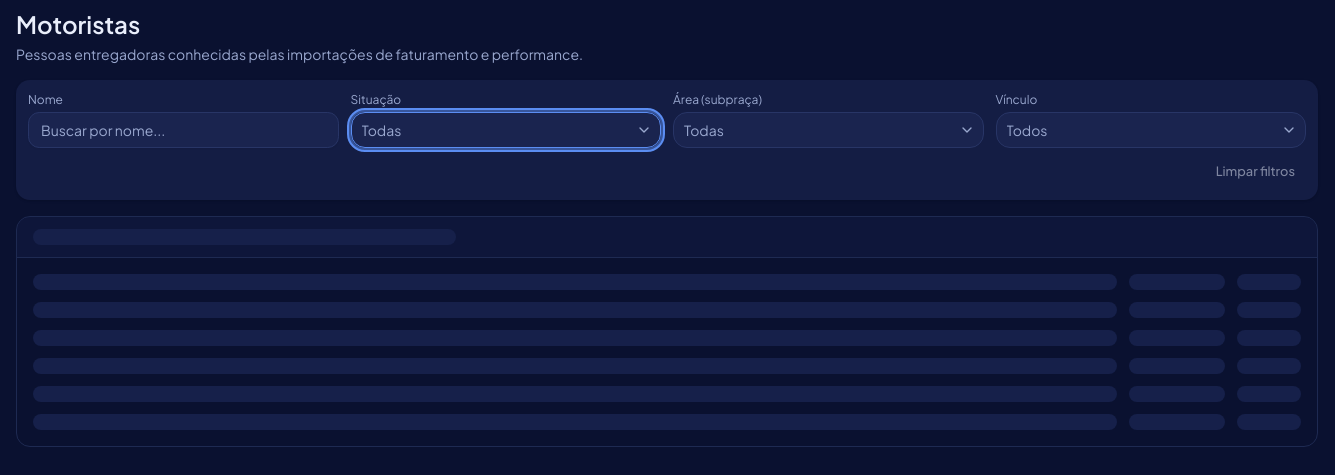
Test: MotoristasPage › filtro de situação envia ativo como boolean
The image size is (1335, 475).
Click the dropdown named "Situação" at [381, 130], box [350,112,661,148]
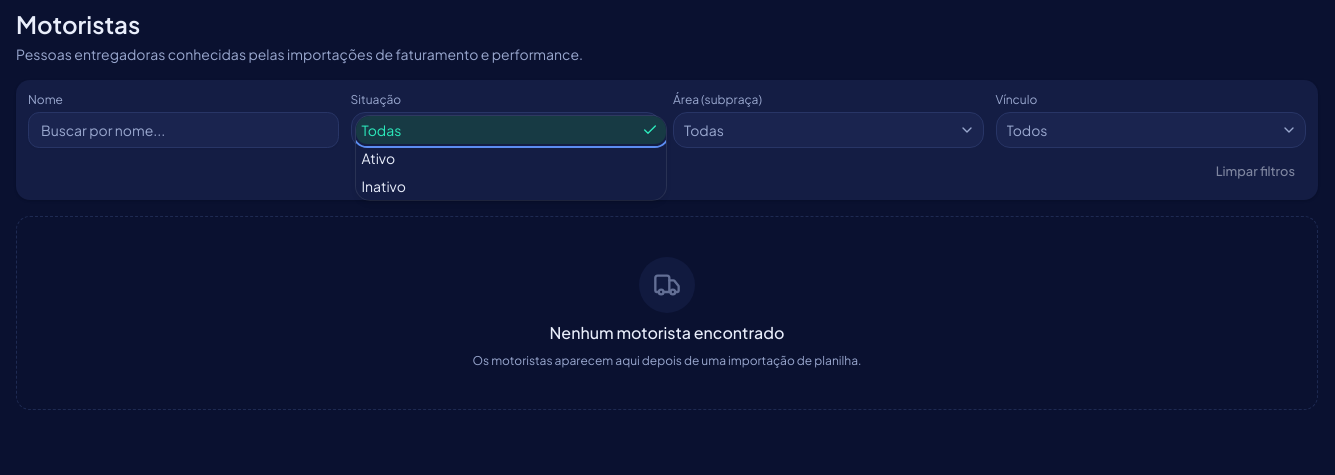
Expected: the dropdown named "Situação" is expanded, [350,112,661,148]
Expected: the option "Todas" is shown
Press ArrowDown in the option "Todas", box [356,116,666,144]
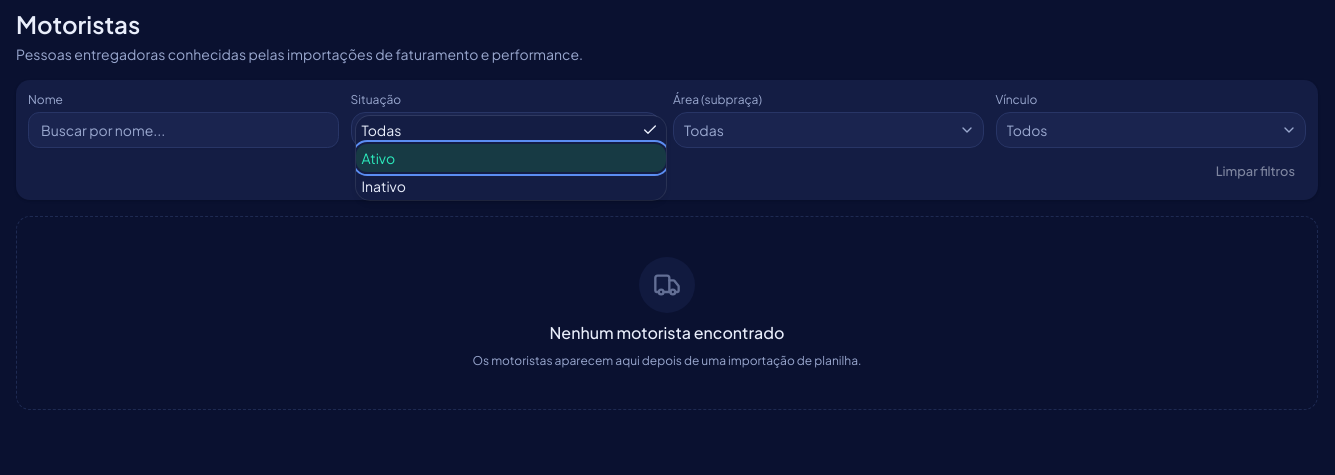
Press Enter in the option "Ativo", box [356,144,666,172]
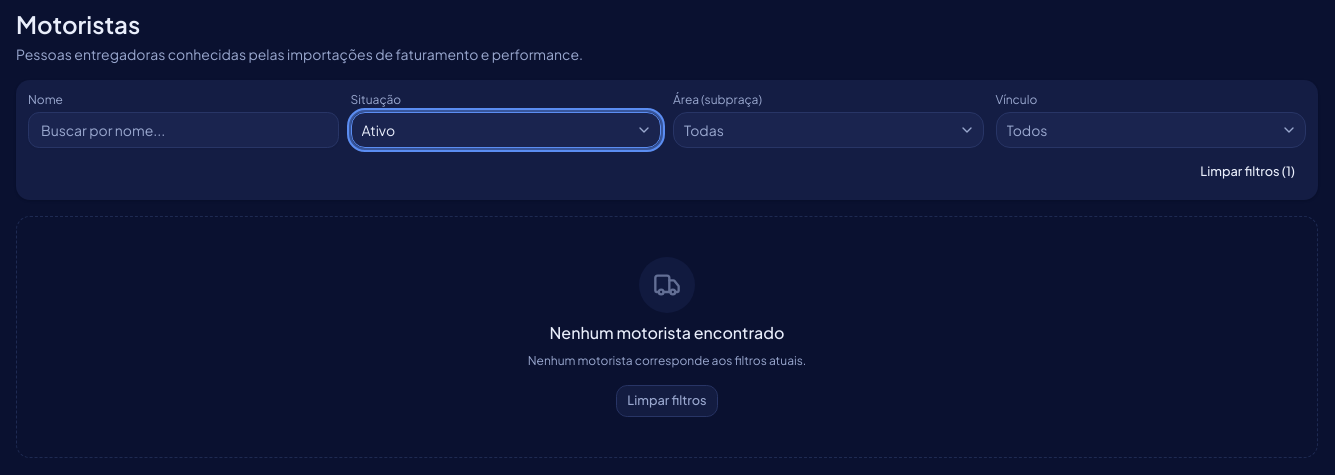
Expected: the dropdown named "Situação" is collapsed, [350,112,661,148]
